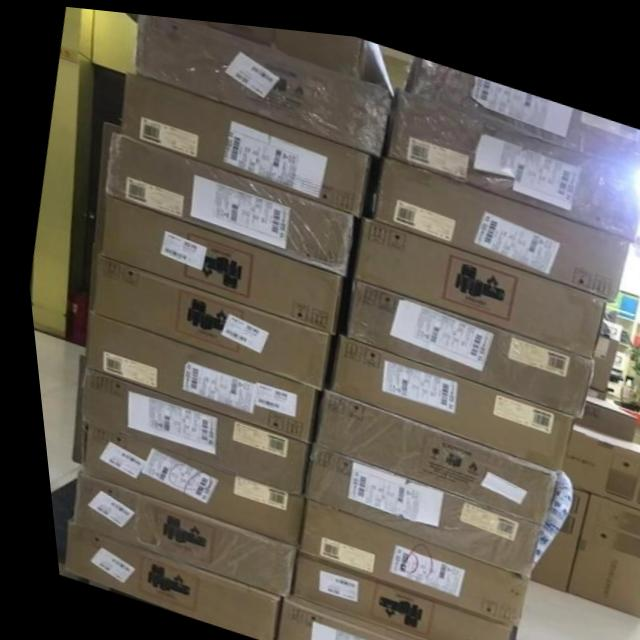box: (384, 78, 640, 228), (370, 148, 627, 288), (117, 68, 367, 210), (132, 11, 389, 149), (348, 208, 603, 347), (101, 129, 348, 269), (339, 270, 588, 406), (322, 328, 566, 461), (95, 194, 335, 328), (306, 382, 547, 515), (84, 252, 322, 385), (294, 436, 530, 567), (77, 308, 307, 437), (287, 493, 516, 619), (71, 364, 297, 487), (61, 470, 284, 591), (71, 420, 293, 540), (52, 517, 267, 639), (403, 47, 640, 157), (279, 544, 499, 640), (185, 15, 393, 89), (555, 480, 640, 604), (262, 589, 430, 640), (553, 411, 640, 501), (517, 476, 579, 581), (565, 383, 629, 429), (583, 322, 611, 379)
